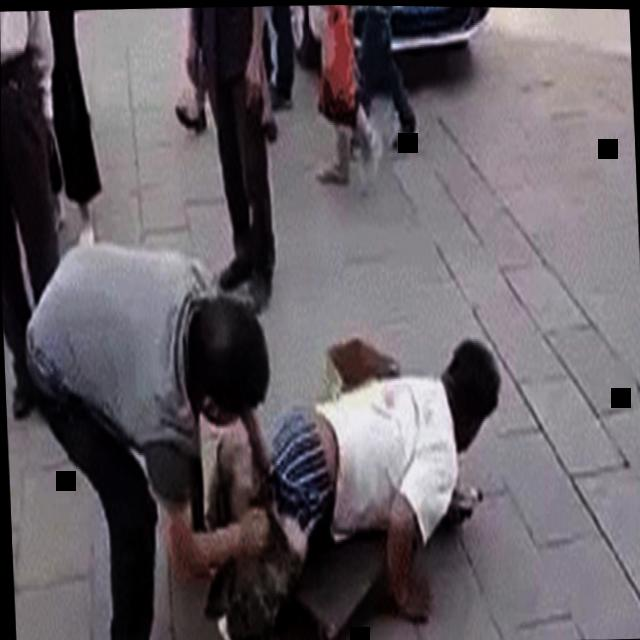Fall-Detected: (165, 300, 518, 640)
